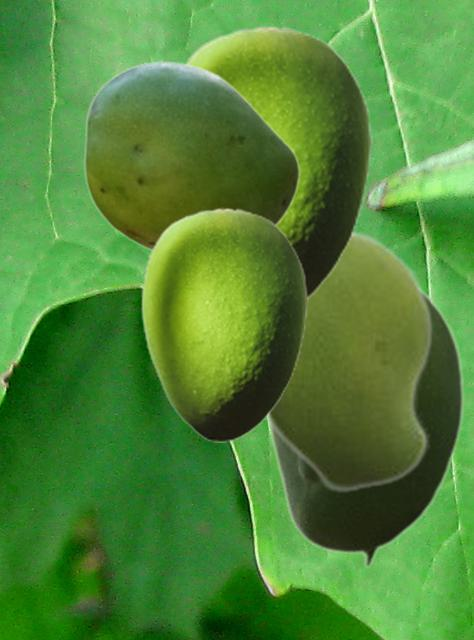green_mango: (264, 290, 463, 568), (181, 25, 371, 303), (263, 227, 433, 493), (83, 60, 299, 250), (140, 207, 307, 441)
